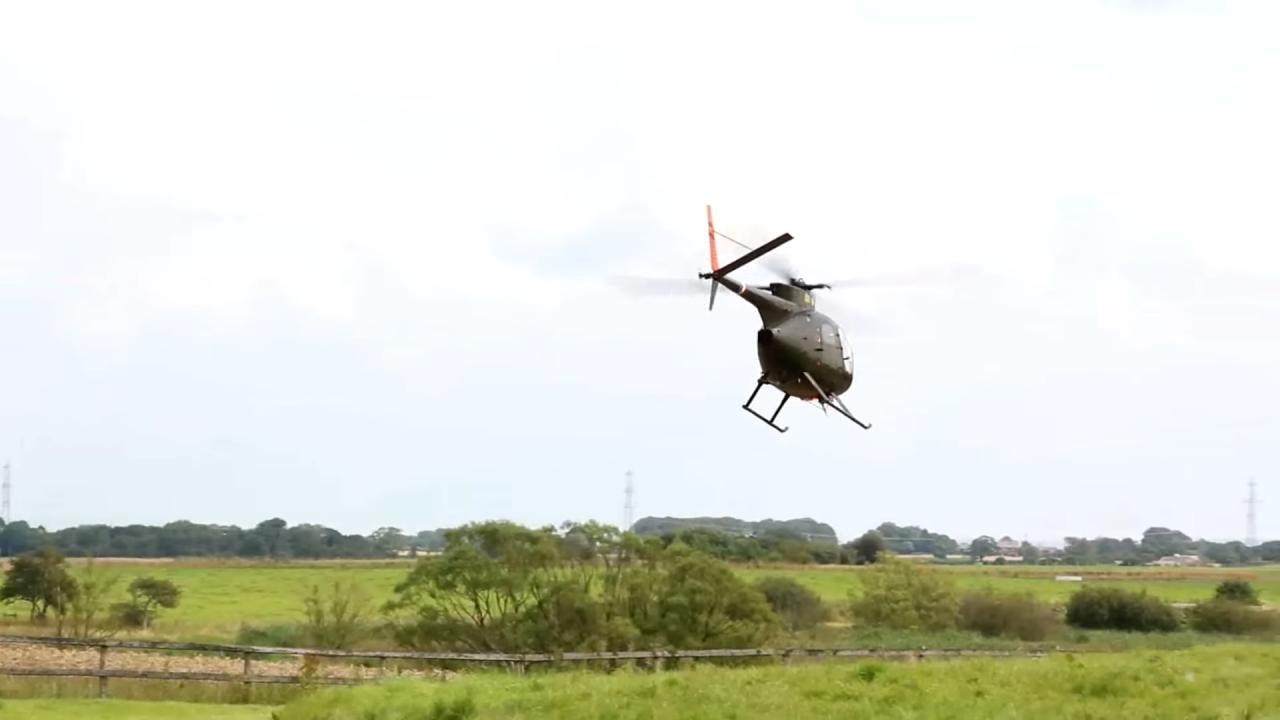Helicopter: (592, 192, 939, 440)
